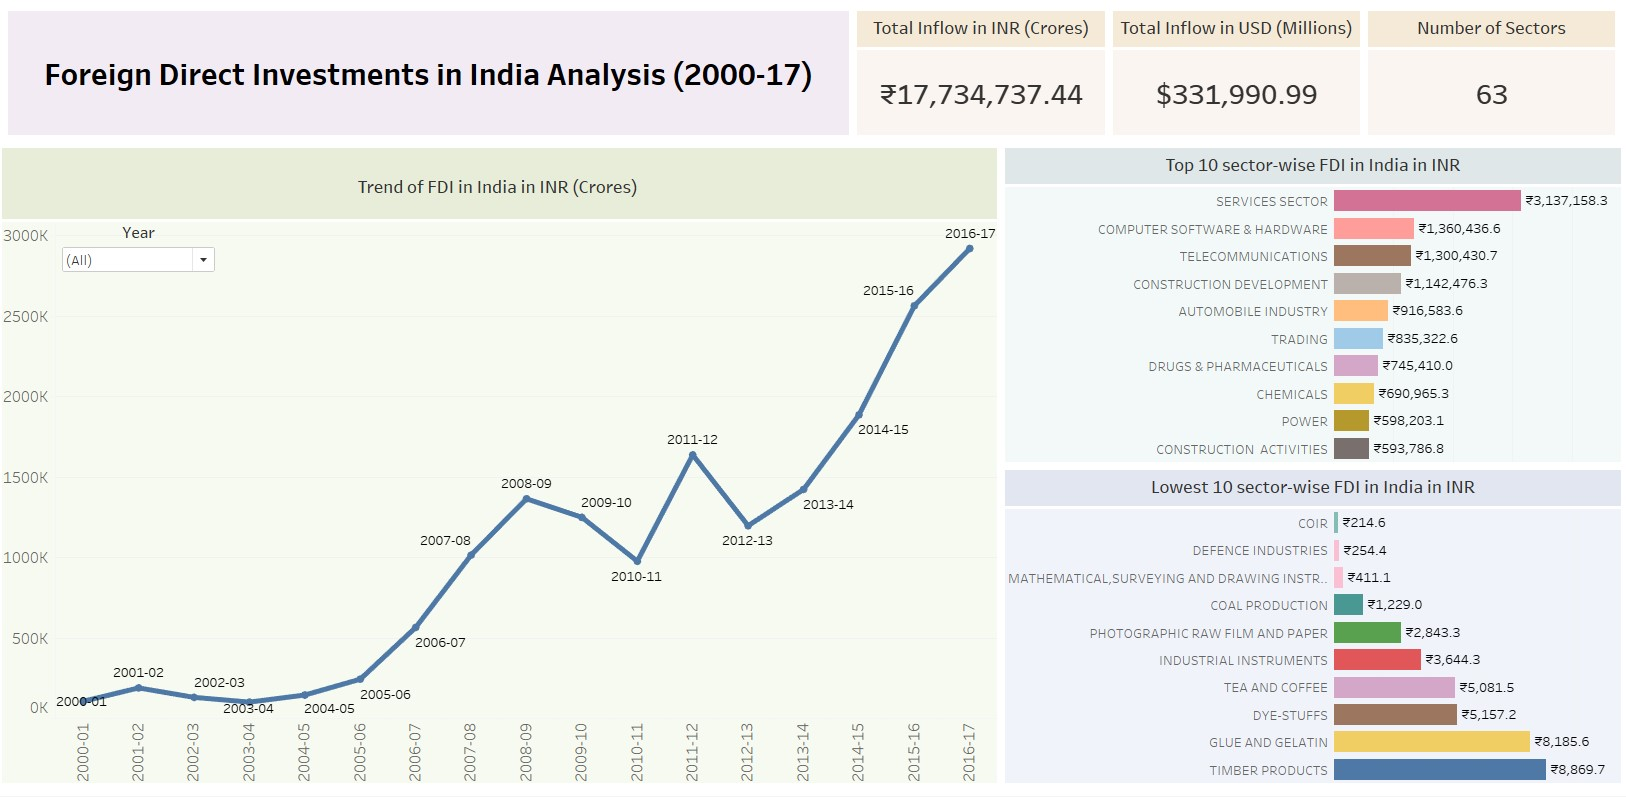

What the dashboard file says about the page in this screenshot:
{"tool":"tableau","page":{"name":"FDI Dashboard","canvas":[1000,1000],"units":"permille","ordinal":0},"visuals":[{"type":"text","box":[13.3,13.7,512.4,164.8]},{"type":"worksheet","title":"Total Inflow INR","mark":"Automatic","box":[525.6,13.7,154.5,164.8]},{"type":"worksheet","title":"Total Inflow USD","mark":"Automatic","box":[680.1,13.7,153.9,164.8]},{"type":"worksheet","title":"No. of Sectors","mark":"Automatic","box":[834,13.7,153.9,164.8]},{"type":"worksheet","title":"Trend INR","mark":"Line","rows":["FDI in INR (Crores)"],"cols":["Year Year"],"box":[9.7,184.8,605.3,802.8]},{"type":"worksheet","title":"Sector highest","mark":"Automatic","rows":["Sector"],"cols":["FDI in INR (Crores)"],"box":[615,184.8,376.6,402]},{"type":"filter","title":"Trend INR","param":"[federated.1f1ognk0dhpmzj199o0dr131s2sv].[none:Year Year:nk]","box":[46.5,282.2,96,72.4]},{"type":"worksheet","title":"Sector lowest","mark":"Automatic","rows":["Sector"],"cols":["FDI in INR (Crores)"],"box":[615,586.8,376.6,400.8]}]}

Visuals, with their boxes on the dashboard's canvas, which has no fixed pixel size, in thousandths of its width and height (x1, y1, x2, y2). These are canvas units, not pixel positions in the 1626x797 screenshot, which may show the page scaled, cropped or inside an application window:
text: bbox(13, 14, 526, 178)
"Total Inflow INR" worksheet: bbox(526, 14, 680, 178)
"Total Inflow USD" worksheet: bbox(680, 14, 834, 178)
"No. of Sectors" worksheet: bbox(834, 14, 988, 178)
"Trend INR" worksheet (Line marks): bbox(10, 185, 615, 988)
"Sector highest" worksheet: bbox(615, 185, 992, 587)
"Trend INR" filter: bbox(46, 282, 142, 355)
"Sector lowest" worksheet: bbox(615, 587, 992, 988)
